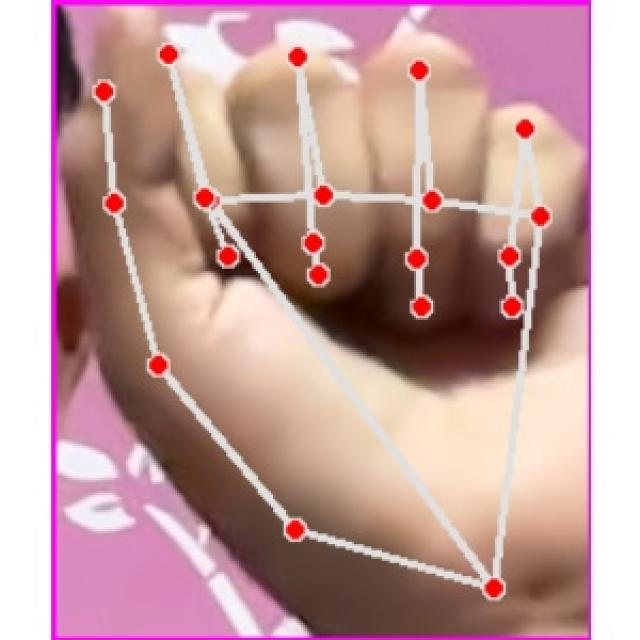A: (59, 0, 590, 640)
